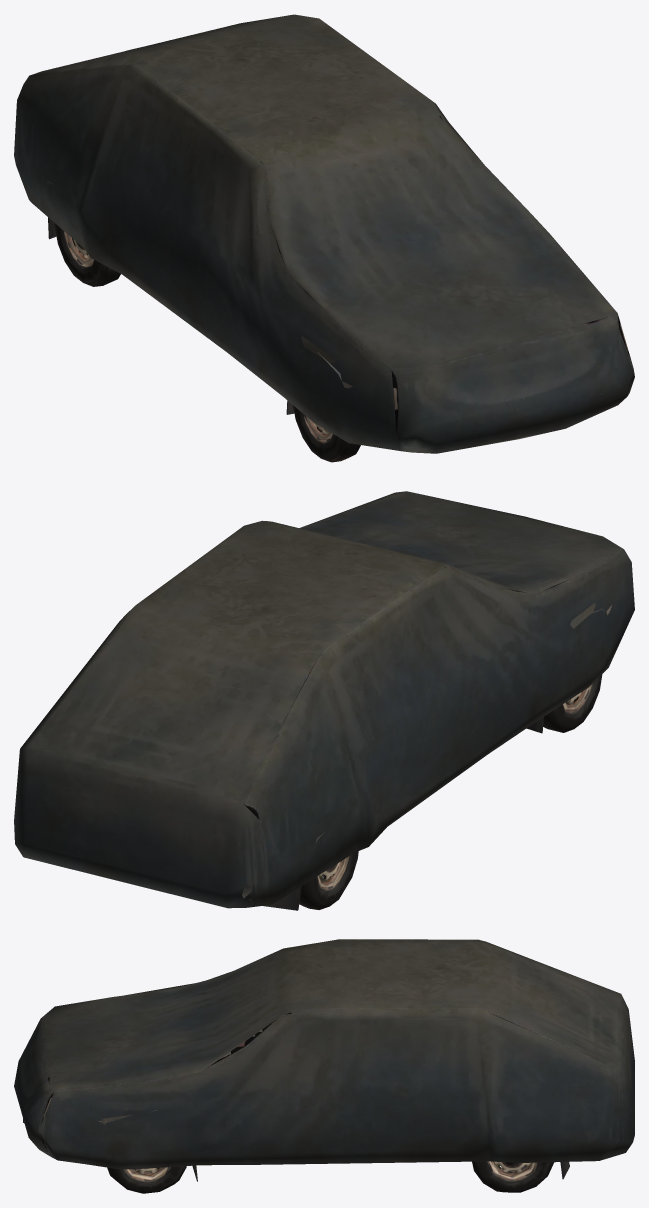
Rendered from covered_car.glb.
3 renders of one model, top to bottom at view 1: azimuth 30°, elevation 25°; view 2: azimuth 150°, elevation 25°; view 3: azimuth 270°, elevation 25°, orthographic. The views are drawn at different scales.
Visible parts, largest first — view 1: covered_car, covered_car_wheel_03, covered_car_wheel_02; view 2: covered_car, covered_car_wheel_03, covered_car_wheel_02; view 3: covered_car, covered_car_wheel_04, covered_car_wheel_01.
Boxes of the visible parts, <box> form: covered_car: <box>14,14,634,453</box>; covered_car_wheel_03: <box>54,223,120,286</box>; covered_car_wheel_02: <box>293,405,360,462</box>; covered_car: <box>14,491,634,910</box>; covered_car_wheel_03: <box>299,851,358,909</box>; covered_car_wheel_02: <box>543,674,602,732</box>; covered_car: <box>14,939,634,1181</box>; covered_car_wheel_04: <box>472,1161,553,1192</box>; covered_car_wheel_01: <box>107,1166,186,1193</box>.
Size of the model in its own units: 1.77 by 1.38 by 4.38.
2 materials, 2 textured.
